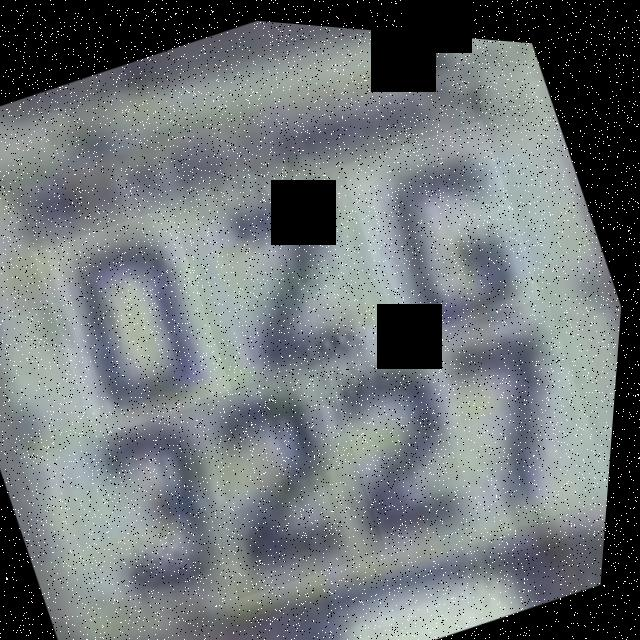2: (269, 296, 527, 572), (170, 344, 405, 603)
3: (39, 370, 293, 640)
7: (405, 268, 626, 537)
G: (333, 102, 555, 345)
O: (26, 194, 249, 445)
Z: (168, 155, 401, 394)
